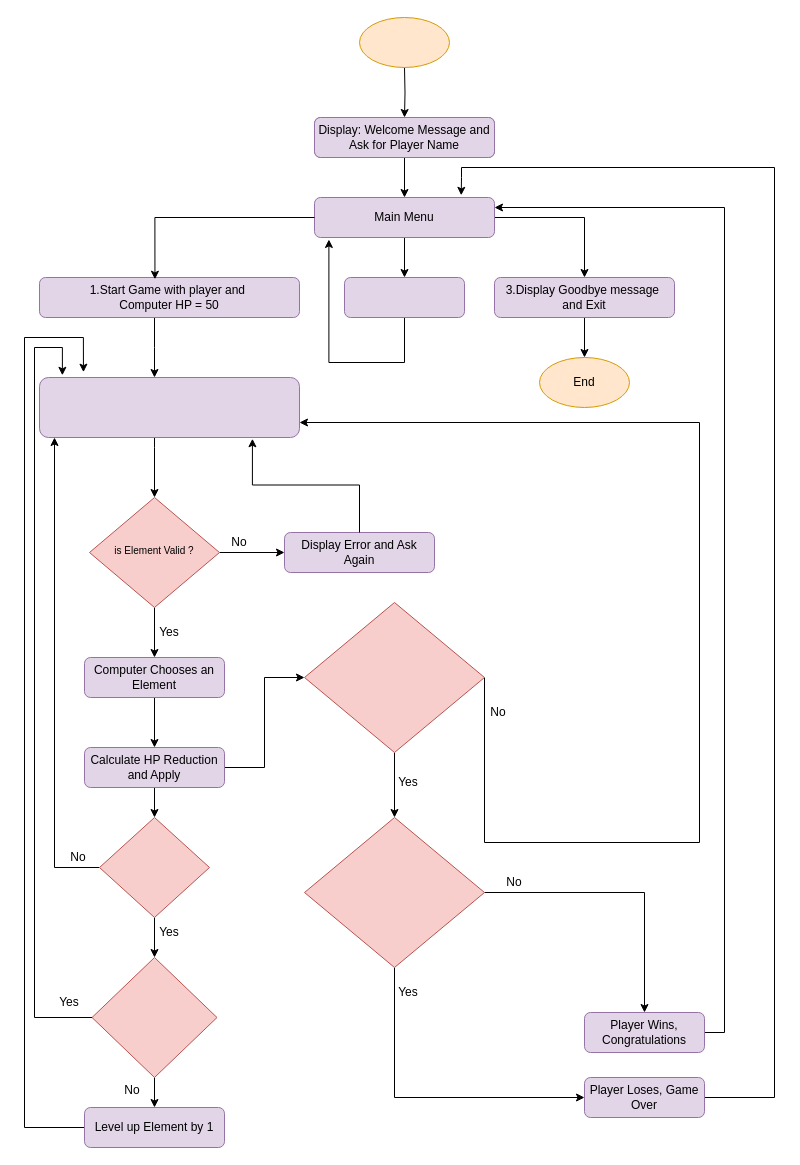
Some shapes in this 800 by 1165 pixel diagram are drawn without their labels. The box of each missing label's shape, as (x1, y1, x2, y2) in pixels:
2.Display Rules: (344, 276, 464, 318)
Display Current Element Levels and Ask for Players Element: (38, 376, 300, 438)
Is Element level at max level 3?: (91, 956, 217, 1078)
is Player HP <= 0?: (304, 816, 484, 968)
Player or Computer HP <= 0 ?: (304, 602, 484, 752)
Start: (358, 16, 450, 68)
Was the attack successful?: (98, 816, 210, 918)
